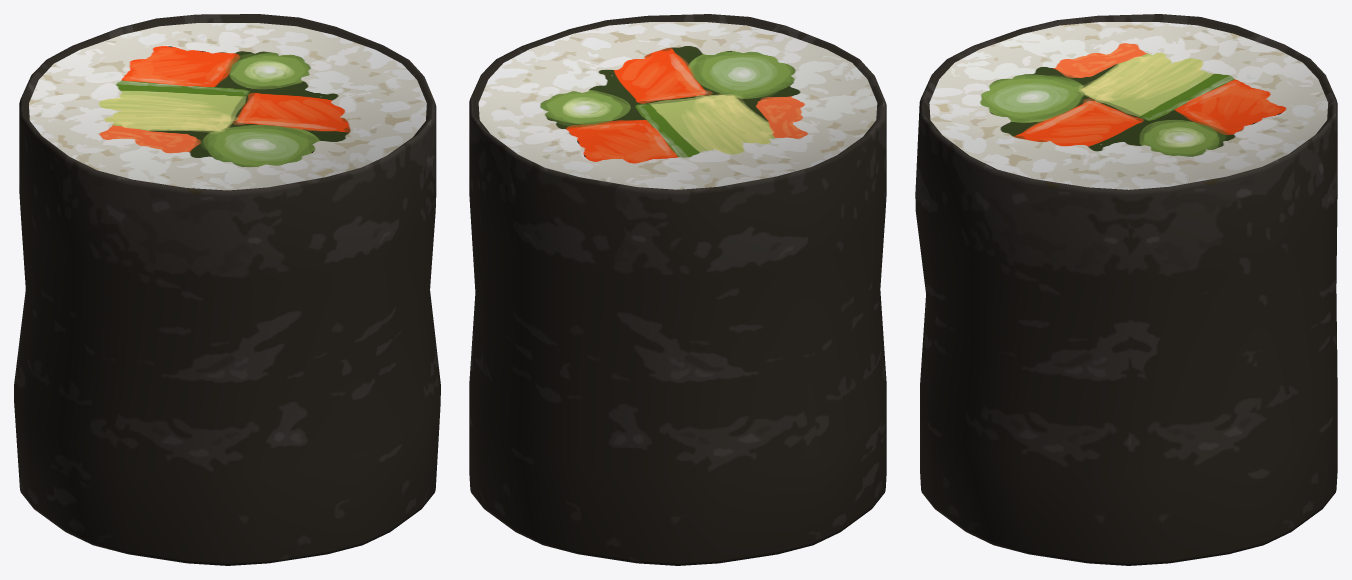
Rendered from Veggie.fbx.
3 views of the same model, side by side, from view 1: azimuth 30°, elevation 25°; view 2: azimuth 150°, elevation 25°; view 3: azimuth 270°, elevation 25° (orthographic).
Visible parts, largest first — view 1: Sushi_vegi; view 2: Sushi_vegi; view 3: Sushi_vegi.
Part boxes in pixels (x1,y1,x2,y2): Sushi_vegi: (14,14,440,565); Sushi_vegi: (469,14,886,565); Sushi_vegi: (915,14,1337,565).
Size of the model in its own units: 0.4564 by 0.4558 by 0.4506.
